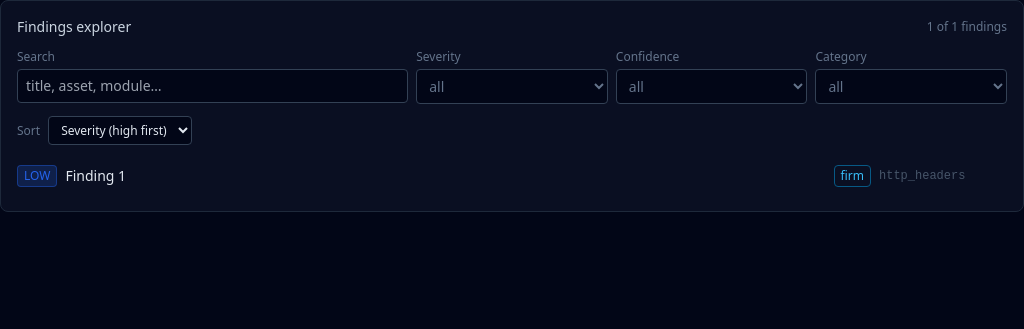
FindingsExplorer › shows "no results match" when filters over-filter
Type "zzz-no-match" into the search field named "Search findings".
click(213, 86); type("zzz-no-match")  # box top-left (17, 69), bottom-right (408, 103)
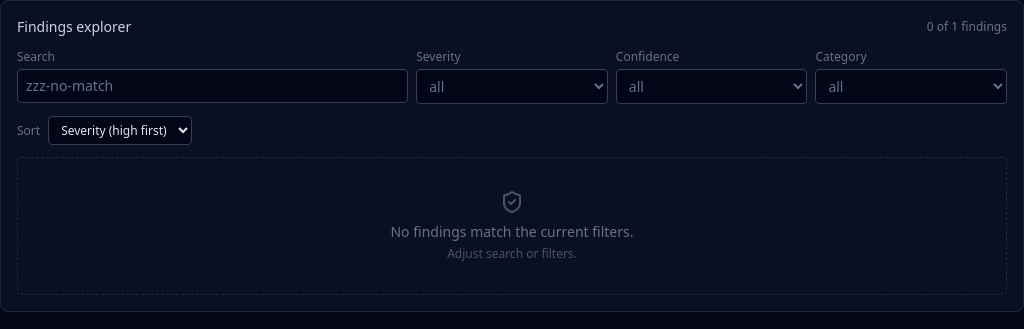
Expected: the text "No findings match the current filters." is shown, top-left (390, 222), bottom-right (634, 242)
